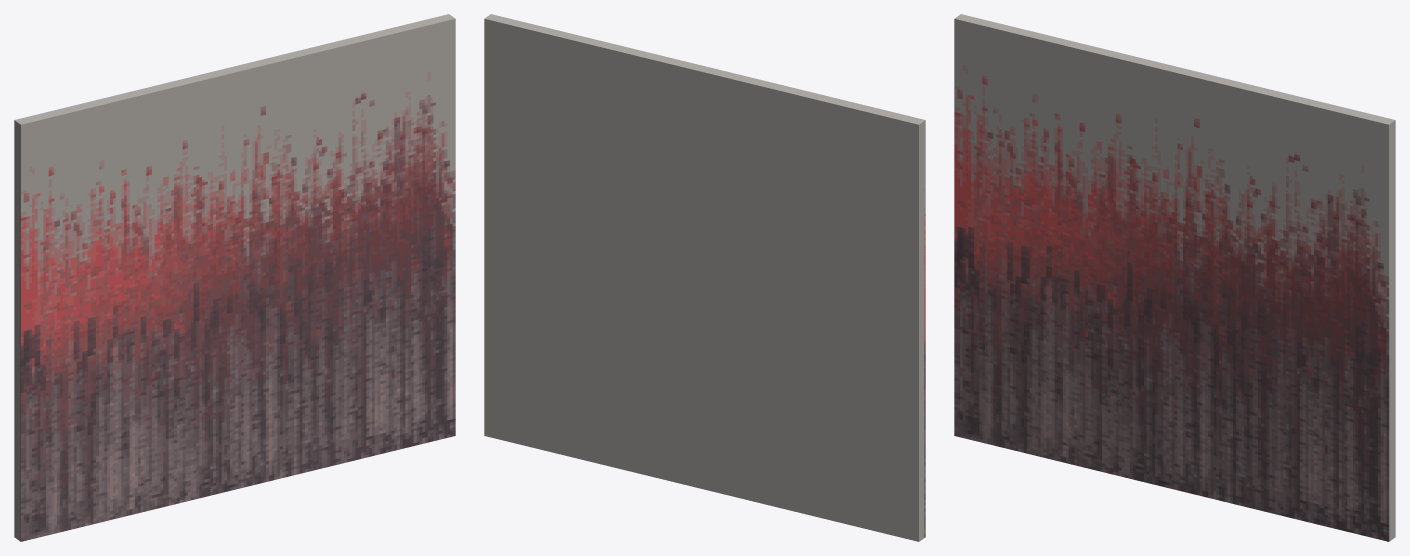
The model's file is wall_art.glb.
The picture shows the model from 3 angles, left to right: view 1: azimuth 30°, elevation 25°; view 2: azimuth 150°, elevation 25°; view 3: azimuth 330°, elevation 25°; orthographic projection.
Parts seen in each view (by area): view 1: root; view 2: root; view 3: root.
Part boxes in pixels (x1=…): root: x1=14, y1=14, x2=455, y2=541; root: x1=484, y1=14, x2=925, y2=541; root: x1=954, y1=14, x2=1395, y2=541.
Bounding box in the file's own units: 1.58 × 1.45 × 0.0408.
